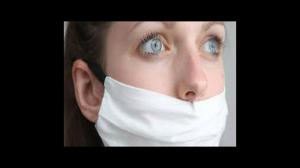mask_weared_incorrect: (119, 22, 229, 146)
